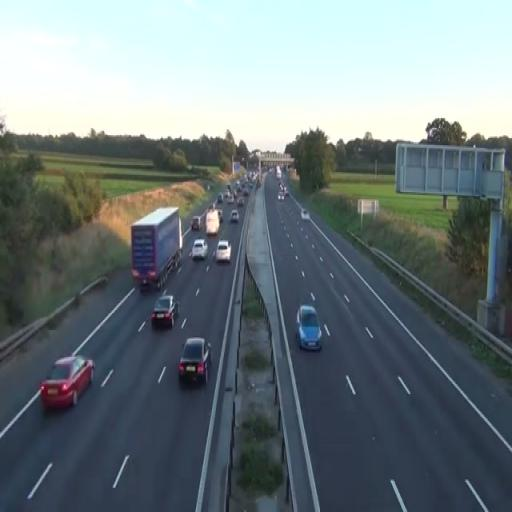Car: (40, 354, 96, 410), (178, 337, 212, 387), (294, 303, 322, 351), (150, 294, 180, 329), (191, 238, 208, 261), (216, 240, 232, 264), (206, 209, 220, 236), (191, 216, 202, 231), (230, 209, 239, 223)
Truck: (130, 206, 184, 292)
